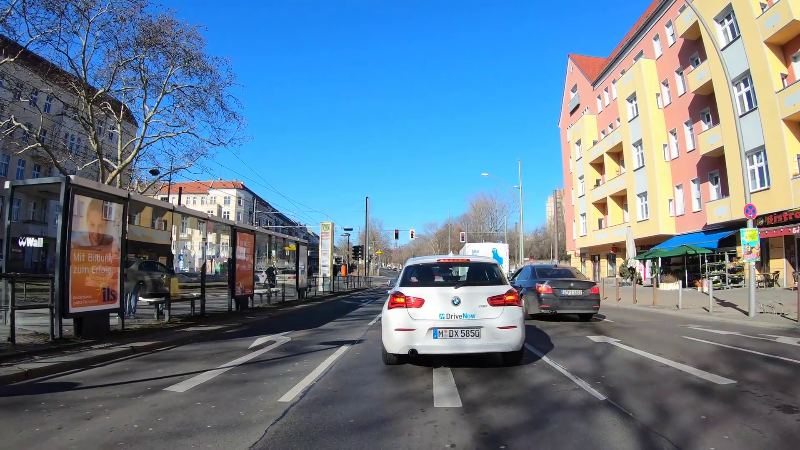Plate: (430, 325, 480, 341), (560, 286, 585, 296)
